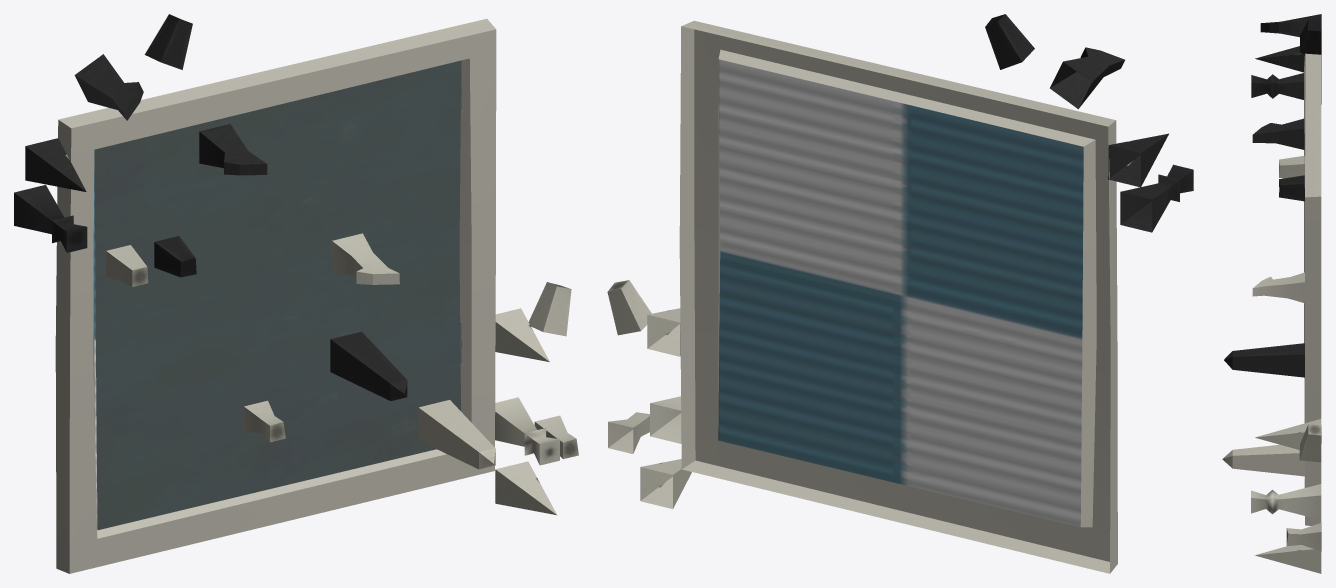
File: nt_2025_chess_board_LOD2.obj
The picture shows the model from 3 angles, left to right: view 1: azimuth 30°, elevation 25°; view 2: azimuth 150°, elevation 25°; view 3: azimuth 270°, elevation 25°; orthographic projection. The views are drawn at different scales.
Visible parts, largest first — view 1: com_glass_clear, mtl_nt_2025_chess_board; view 2: mtl_nt_2025_chess_board; view 3: mtl_nt_2025_chess_board.
Part boxes in pixels (x1,y1,x2,y2): com_glass_clear: (94, 60, 461, 530); mtl_nt_2025_chess_board: (14, 14, 578, 573); mtl_nt_2025_chess_board: (607, 14, 1193, 573); mtl_nt_2025_chess_board: (1222, 14, 1321, 573).
Bounding box in the file's own units: 63.64 × 63.2 × 13.45.
